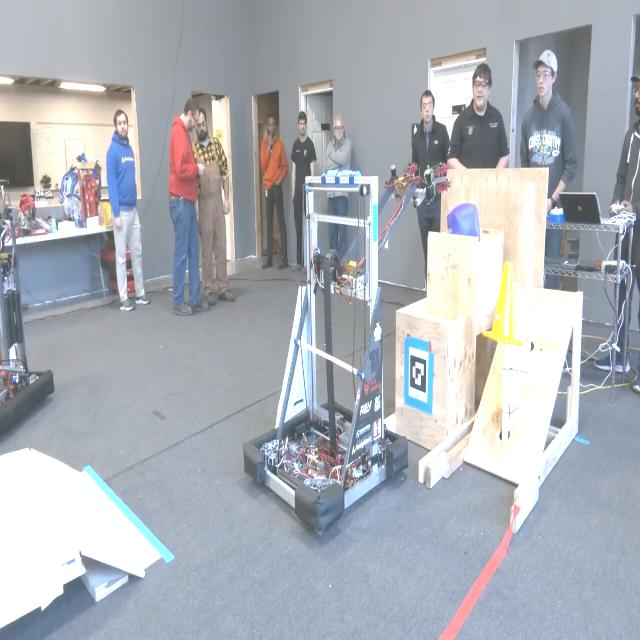frc_cone: (487, 256, 515, 342)
frc_cube: (448, 201, 479, 239)
